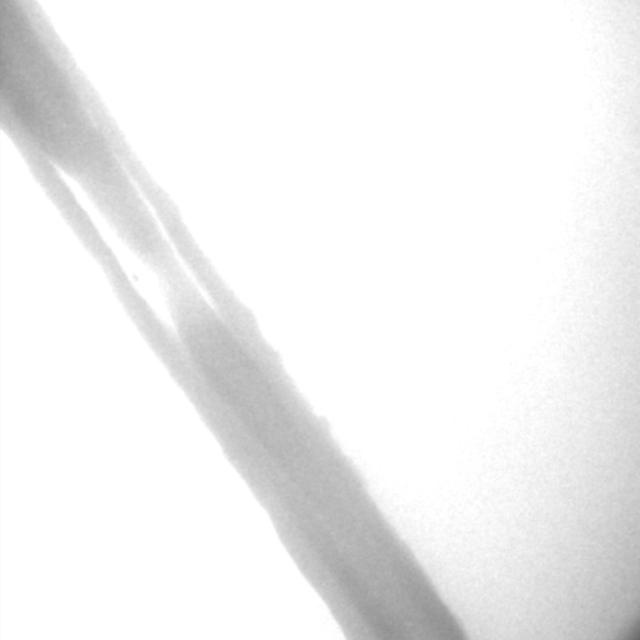unfused: (47, 157, 220, 337)
